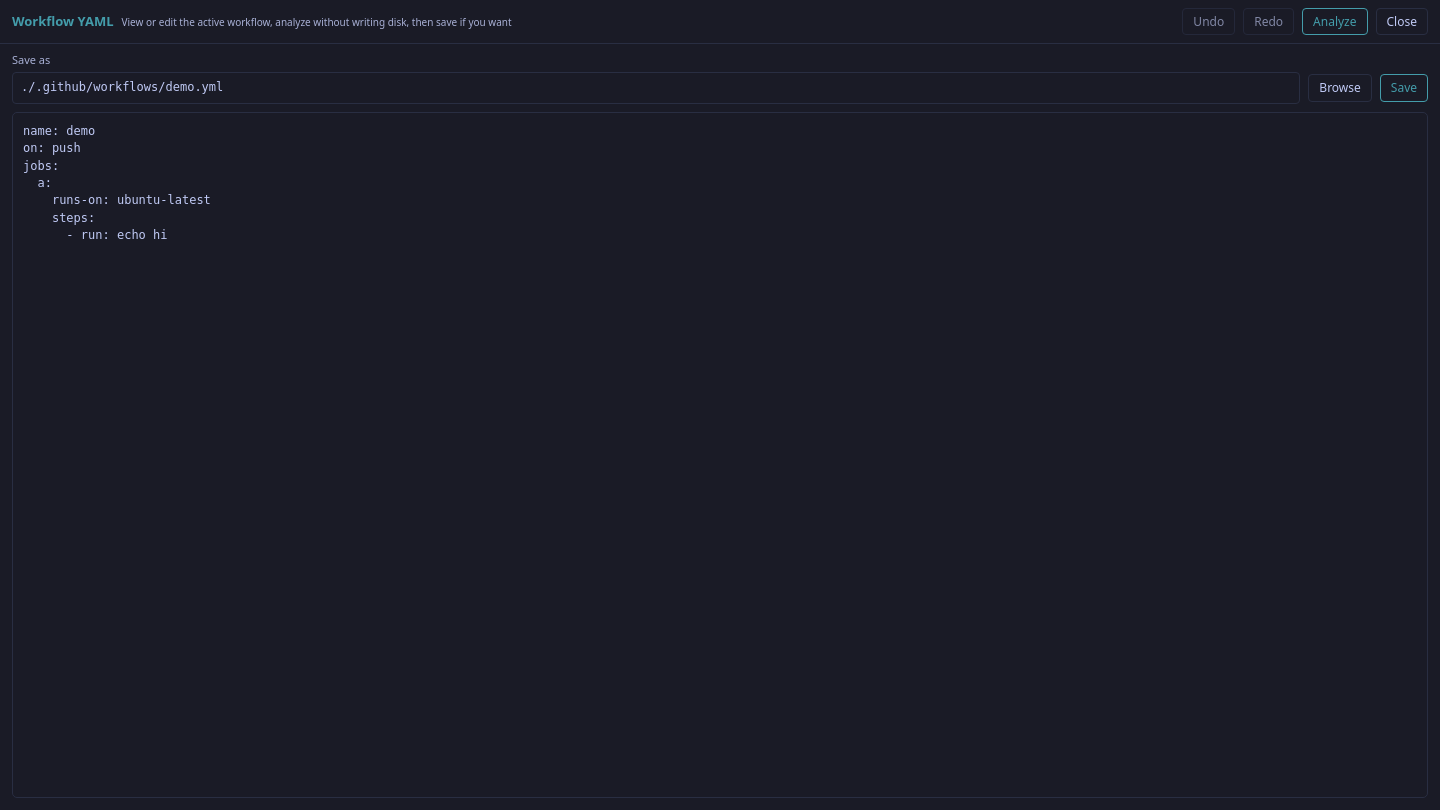
Test: YamlEditor › disables Analyze when source is whitespace
This screenshot has width=1440, height=810.
Clear the text box with placeholder "Paste workflow YAML here…" at (720, 455), box x1=12 y1=112 x2=1428 y2=798
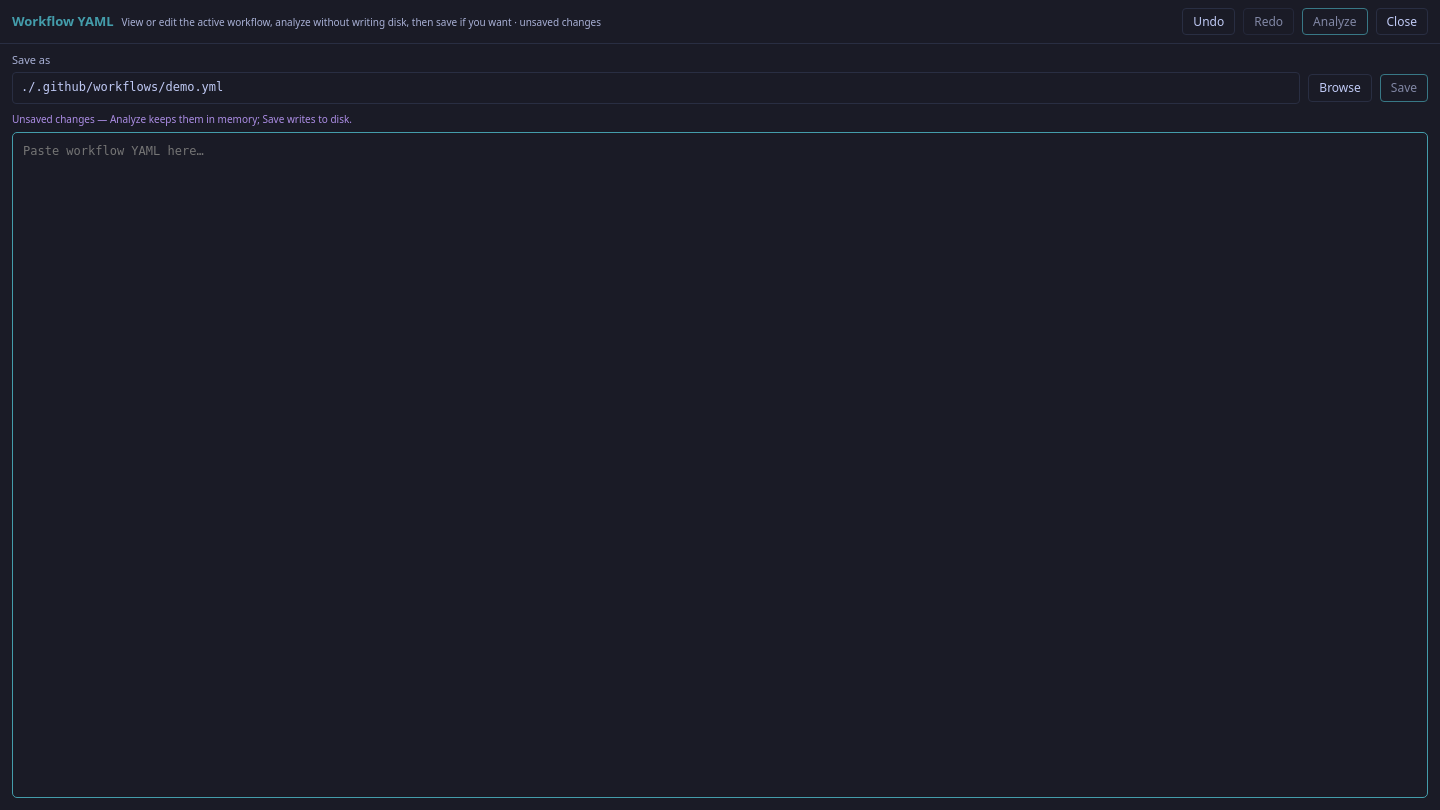
expect the button "Analyze" is disabled: met, box x1=1302 y1=8 x2=1368 y2=35
